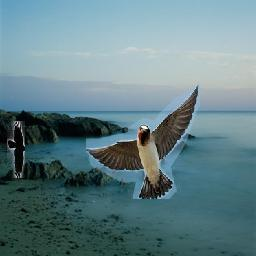Crow: (7, 122, 25, 179)
Swallow: (86, 83, 200, 200)
